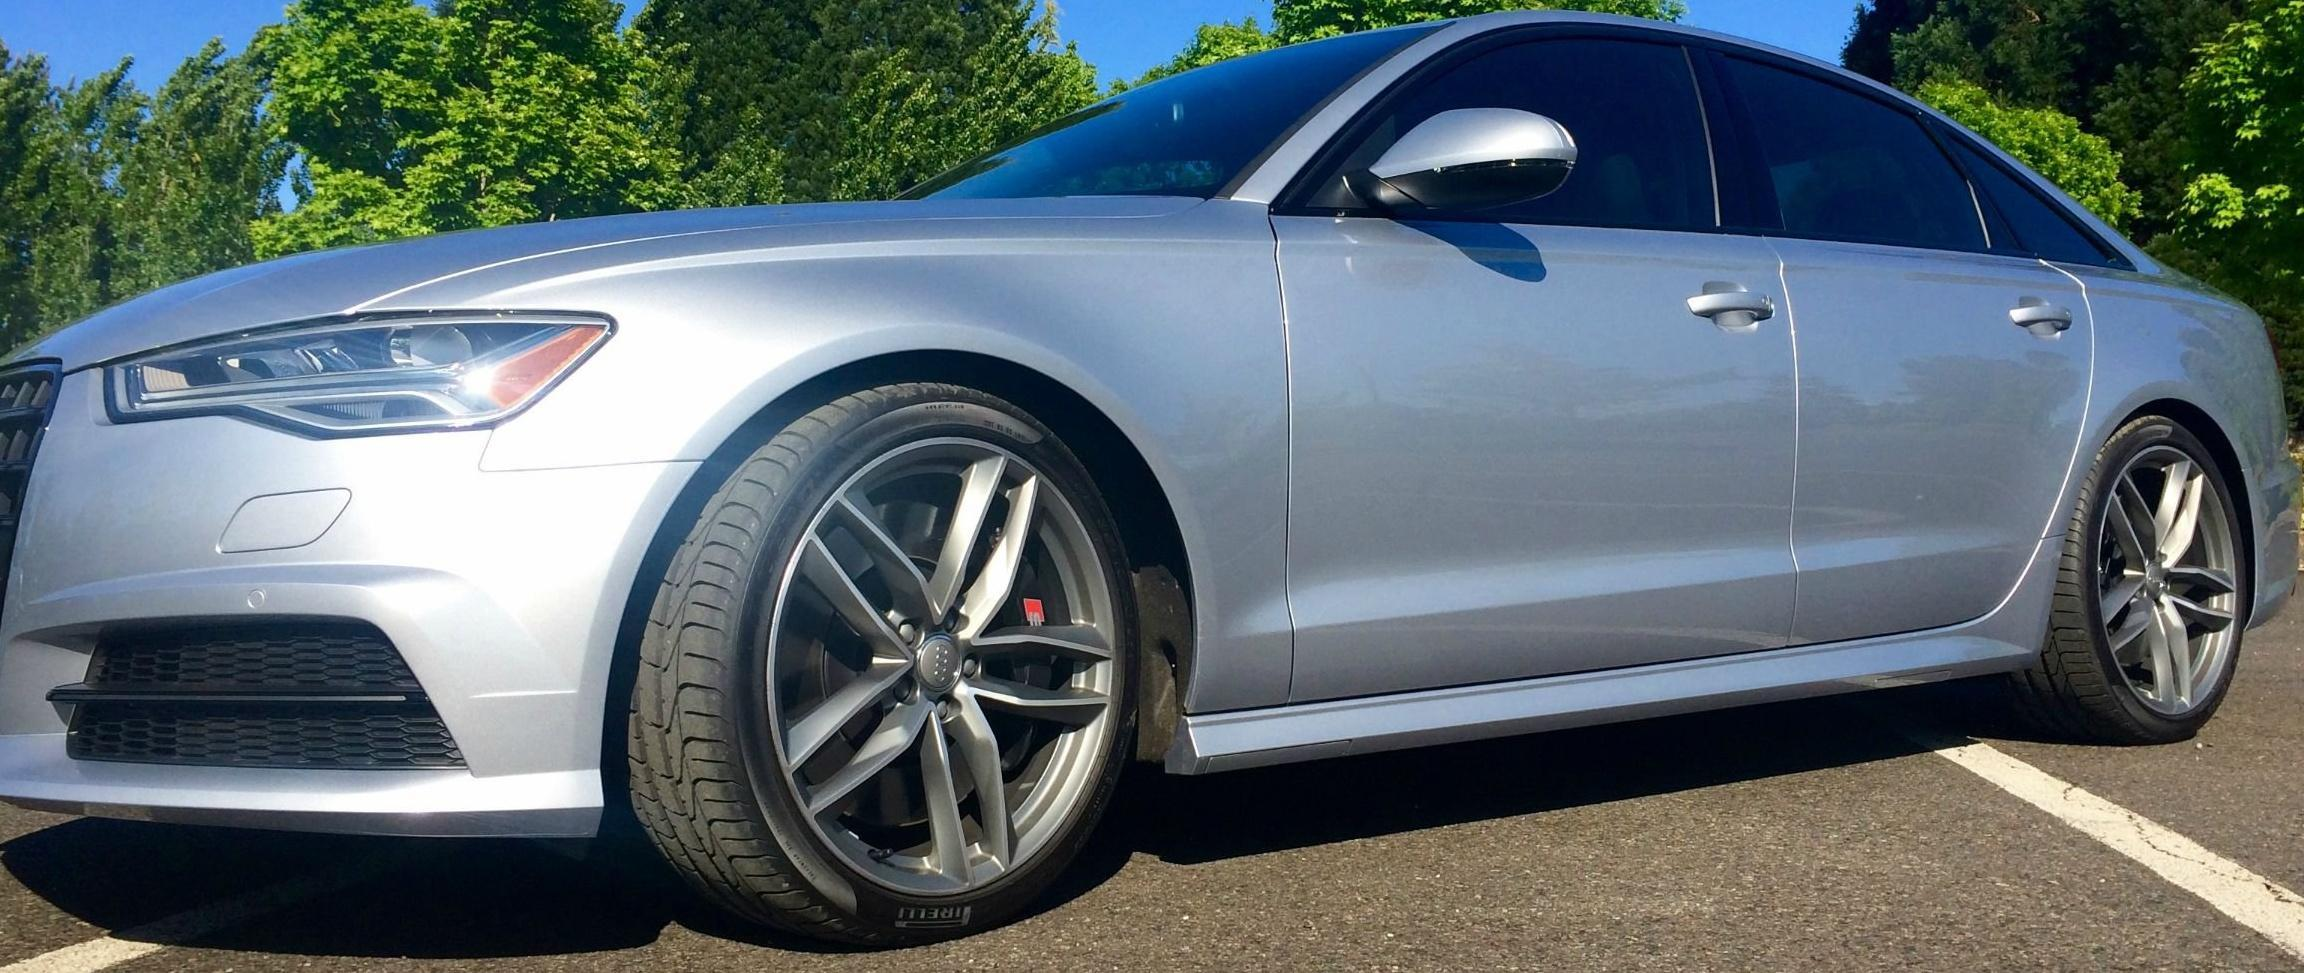Cars: (3, 15, 2301, 947)
